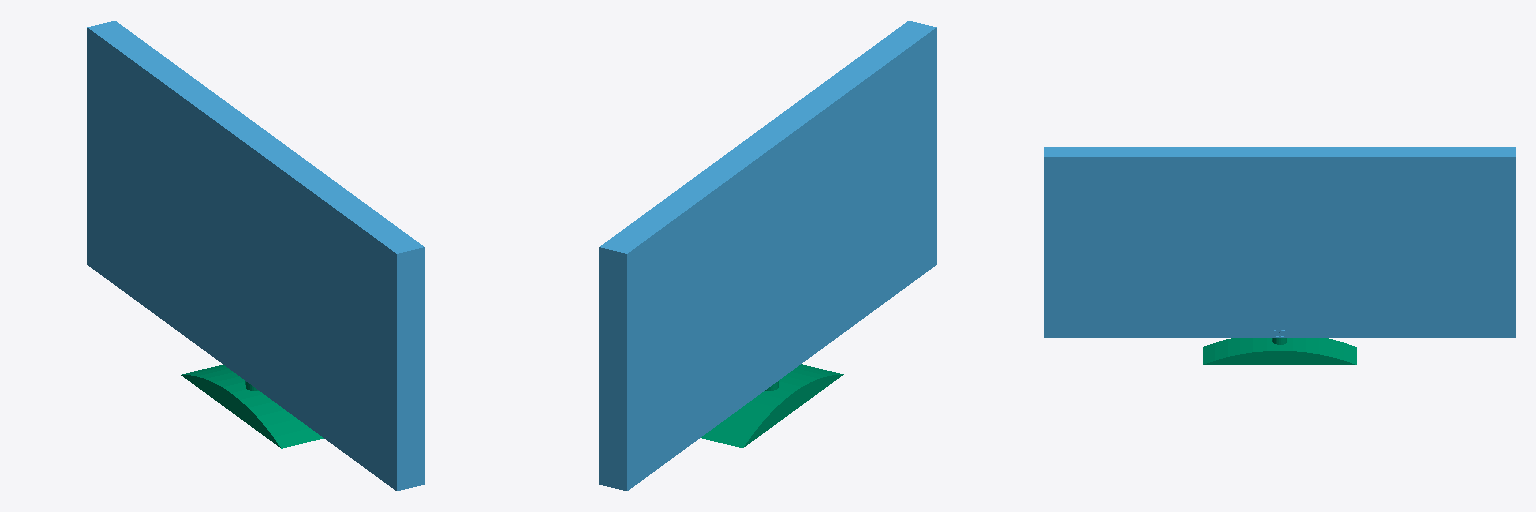
robot.urdf — partnet_15e7231a97ccf7953aeb14563b37e04a:
<?xml version="1.0" ?>
<robot name="partnet_15e7231a97ccf7953aeb14563b37e04a">
	<link name="base"/>
	<link name="link_0">
		<visual name="frame-6">
			<origin xyz="0.016737000000000002 0 -0.002806000000000003"/>
			<geometry>
				<mesh filename="textured_objs/original-3.obj"/>
			</geometry>
		</visual>
		<visual name="frame-6">
			<origin xyz="0.016737000000000002 0 -0.002806000000000003"/>
			<geometry>
				<mesh filename="textured_objs/original-2.obj"/>
			</geometry>
		</visual>
		<visual name="frame-6">
			<origin xyz="0.016737000000000002 0 -0.002806000000000003"/>
			<geometry>
				<mesh filename="textured_objs/new-5.obj"/>
			</geometry>
		</visual>
		<visual name="screen-7">
			<origin xyz="0.016737000000000002 0 -0.002806000000000003"/>
			<geometry>
				<mesh filename="textured_objs/new-4.obj"/>
			</geometry>
		</visual>
		<collision>
			<origin xyz="0.016737000000000002 0 -0.002806000000000003"/>
			<geometry>
				<mesh filename="textured_objs/original-3.obj"/>
			</geometry>
		</collision>
		<collision>
			<origin xyz="0.016737000000000002 0 -0.002806000000000003"/>
			<geometry>
				<mesh filename="textured_objs/original-2.obj"/>
			</geometry>
		</collision>
		<collision>
			<origin xyz="0.016737000000000002 0 -0.002806000000000003"/>
			<geometry>
				<mesh filename="textured_objs/new-5.obj"/>
			</geometry>
		</collision>
		<collision>
			<origin xyz="0.016737000000000002 0 -0.002806000000000003"/>
			<geometry>
				<mesh filename="textured_objs/new-4.obj"/>
			</geometry>
		</collision>
	</link>
	<joint name="joint_0" type="continuous">
		<origin xyz="-0.016737000000000002 0 0.002806000000000003"/>
		<axis xyz="0 1 0"/>
		<child link="link_0"/>
		<parent link="link_1"/>
	</joint>
	<link name="link_1">
		<visual name="base_support-4">
			<origin xyz="0 0 0"/>
			<geometry>
				<mesh filename="textured_objs/new-6.obj"/>
			</geometry>
		</visual>
		<visual name="surface-5">
			<origin xyz="0 0 0"/>
			<geometry>
				<mesh filename="textured_objs/new-1.obj"/>
			</geometry>
		</visual>
		<collision>
			<origin xyz="0 0 0"/>
			<geometry>
				<mesh filename="textured_objs/new-6.obj"/>
			</geometry>
		</collision>
		<collision>
			<origin xyz="0 0 0"/>
			<geometry>
				<mesh filename="textured_objs/new-1.obj"/>
			</geometry>
		</collision>
	</link>
	<joint name="joint_1" type="fixed">
		<origin rpy="1.570796326794897 0 -1.570796326794897" xyz="0 0 0"/>
		<child link="link_1"/>
		<parent link="base"/>
	</joint>
</robot>

--- Facts derived from the render (not from the file) ---
Views: 3 orthographic renders of the robot side by side, from view 1: azimuth 30°, elevation 25°; view 2: azimuth 150°, elevation 25°; view 3: azimuth 270°, elevation 25°.
Robot: partnet_15e7231a97ccf7953aeb14563b37e04a — 3 links, 2 joints (1 continuous, 1 fixed); root link base; default pose: all joints at 0.
Links seen in each view (by area): view 1: link_0, link_1; view 2: link_0, link_1; view 3: link_0, link_1.
Link boxes in pixels (box(x1,y1,x2,y2)): link_0: box(87, 21, 424, 490); link_1: box(181, 365, 323, 448); link_0: box(599, 21, 936, 490); link_1: box(701, 364, 843, 447); link_0: box(1044, 147, 1515, 337); link_1: box(1203, 338, 1356, 364).
Bounding box of the posed robot: 0.1644 × 1.82 × 0.8708 m (x, y, z).
Meshes: 6 distinct files referenced, 6 mesh visuals loaded (6 OBJ).
